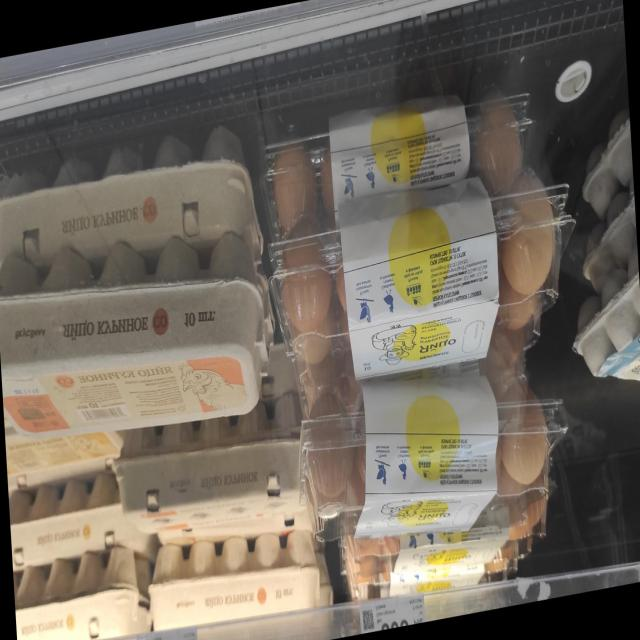organic waste: (0, 222, 284, 467)
